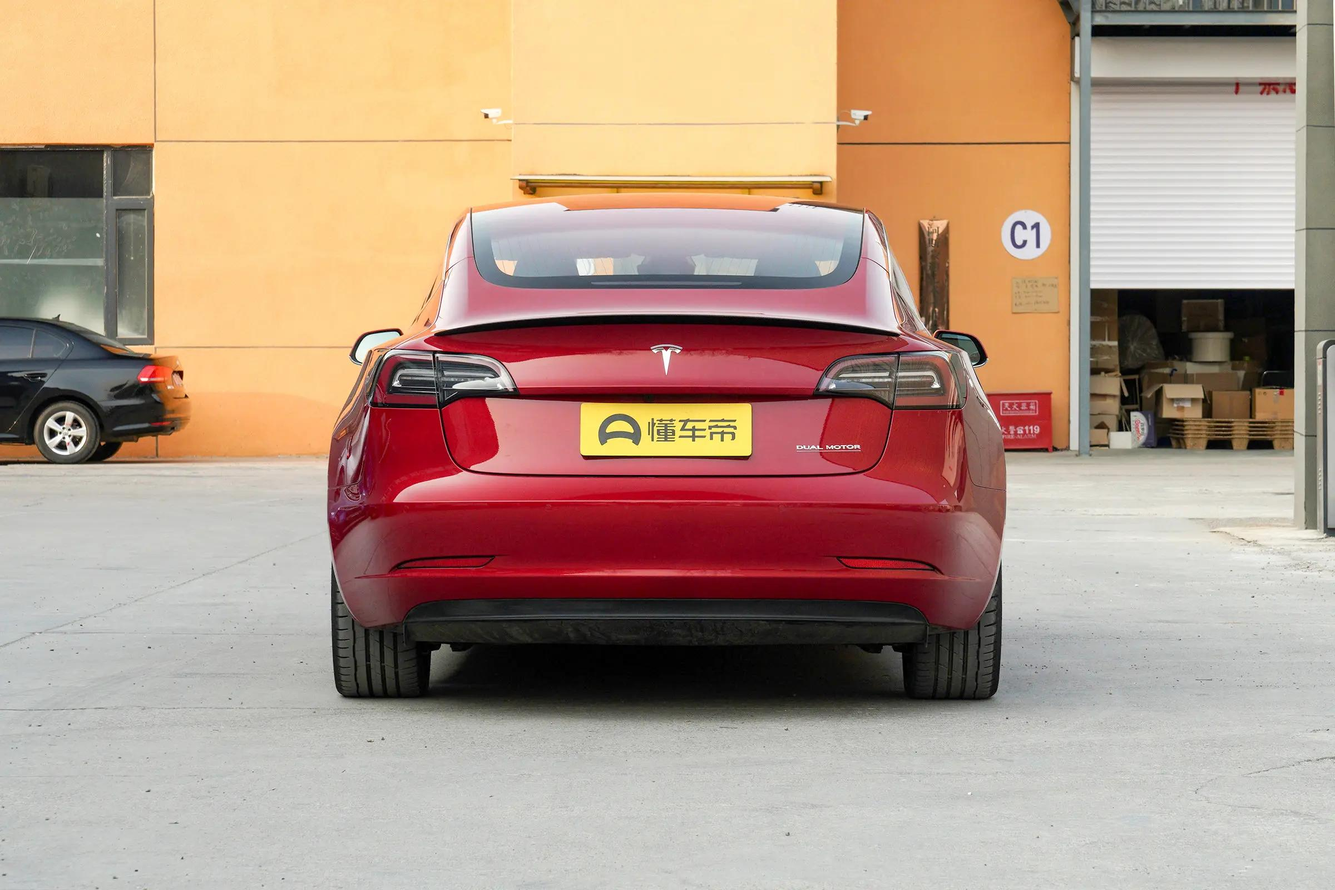Tesla: (650, 344, 683, 376)
